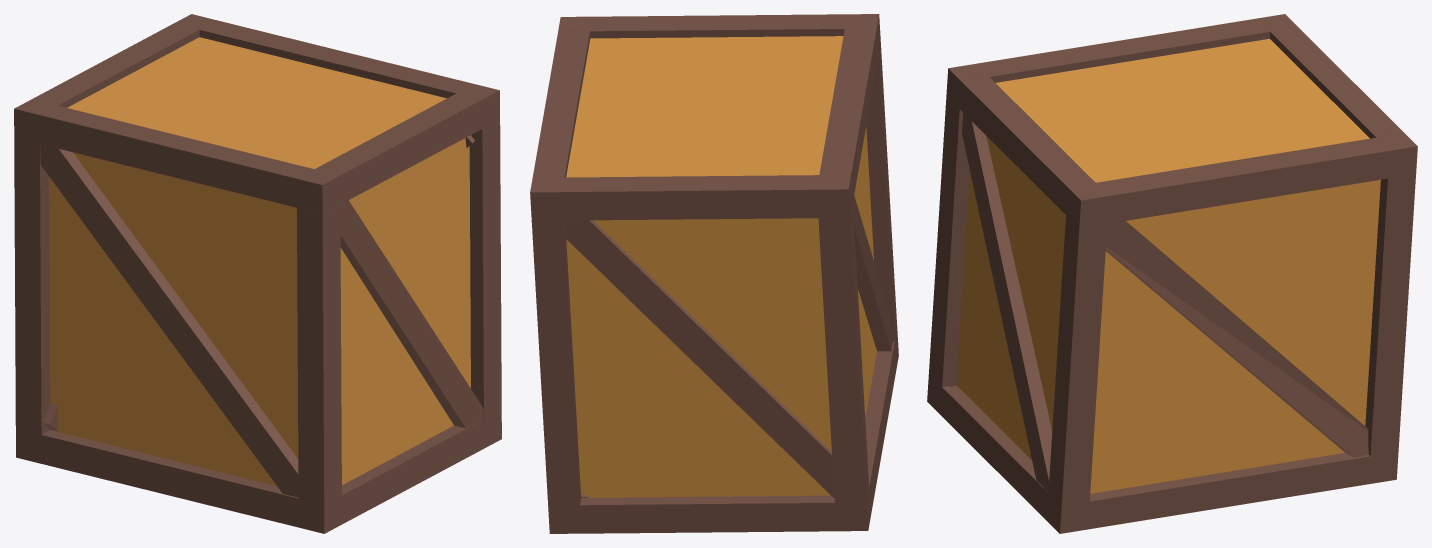
Rendered from model-triangulated.obj.
3 renders of one model, left to right at view 1: azimuth 30°, elevation 25°; view 2: azimuth 150°, elevation 25°; view 3: azimuth 270°, elevation 25°, orthographic. The views are drawn at different scales.
Visible parts, largest first — view 1: group329106156; view 2: group329106156; view 3: group329106156.
Boxes of the visible parts, <box> form: group329106156: <box>14,14,501,533</box>; group329106156: <box>530,14,898,533</box>; group329106156: <box>927,14,1417,533</box>.
Size of the model in its own units: 0.5799 by 0.5174 by 0.6312.
